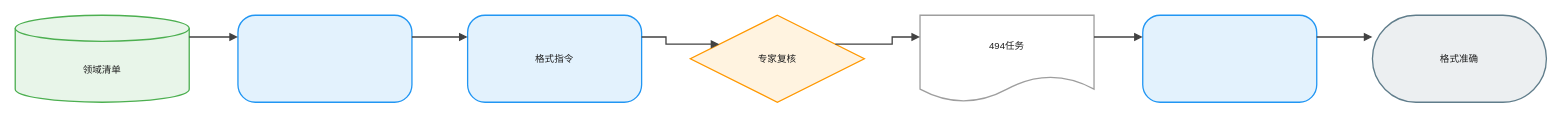
This 1563x118 diagram has some shape labels left out. The shapes that lost their labels are listed below. From the top down, each one's box as (x1, y1, x2, y2) in pixels, then its label:
(237, 14, 412, 102): 专用格式
(1142, 14, 1317, 102): GPT-4裁判
